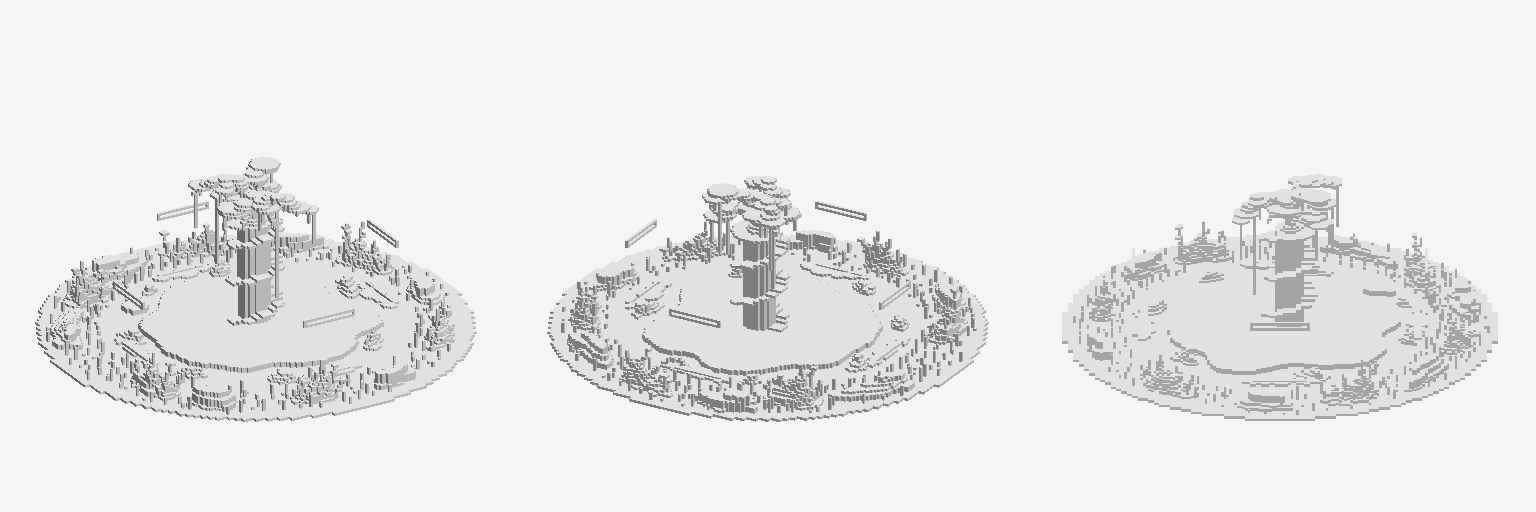
Rendered from Zoo.obj.
3 views of the same model, side by side, from view 1: azimuth 30°, elevation 25°; view 2: azimuth 150°, elevation 25°; view 3: azimuth 270°, elevation 25° (orthographic).
Visible parts, largest first — view 1: object 1; view 2: object 1; view 3: object 1.
Part boxes in pixels (x1,y1,x2,y2): object 1: (35,156,476,421); object 1: (547,176,988,421); object 1: (1062,174,1497,420).
Size of the model in its own units: 16.2 by 6 by 16.2.